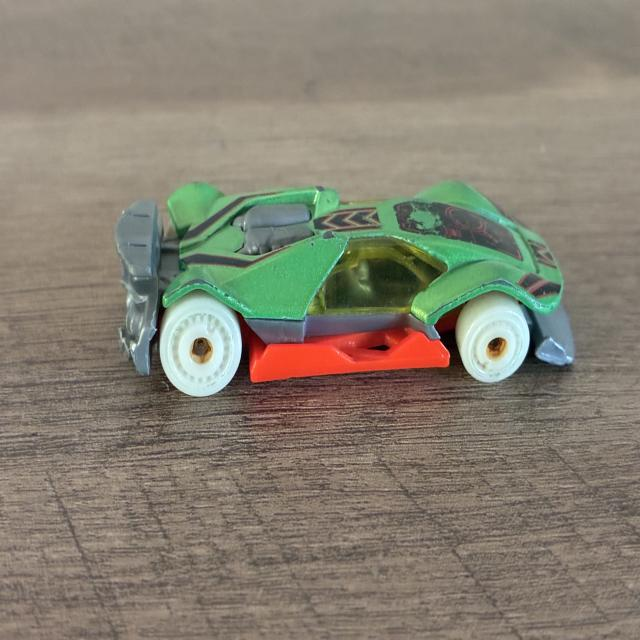cars: (116, 180, 574, 396)
